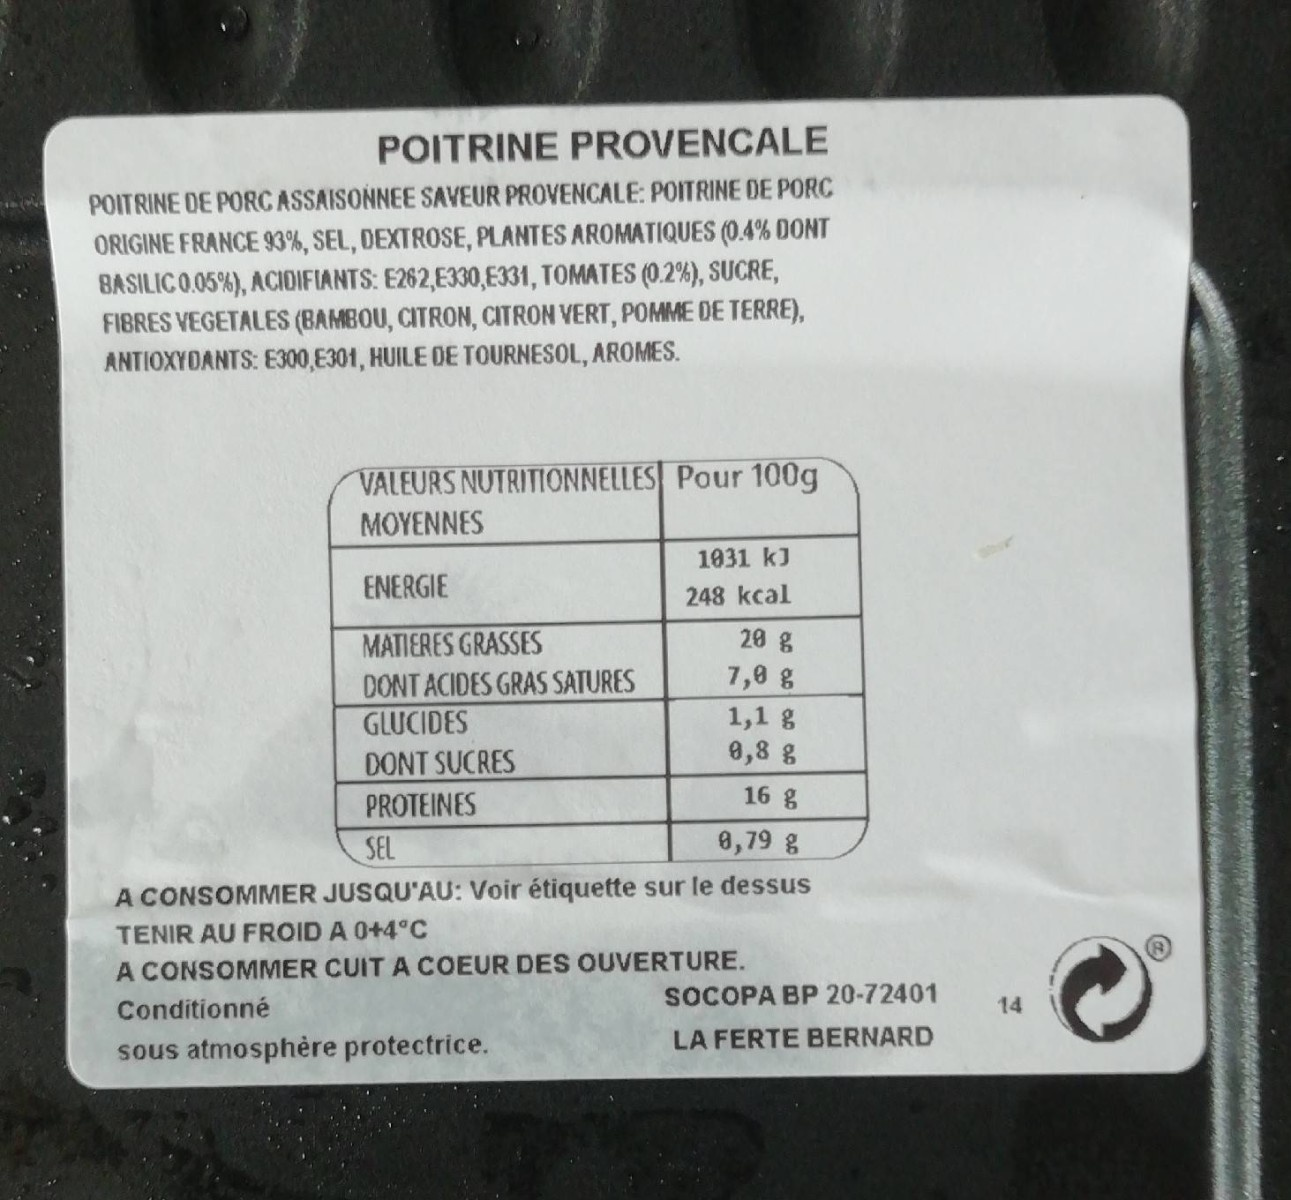column: (353, 550, 638, 857), (682, 539, 802, 861)
table: (324, 461, 869, 866)
